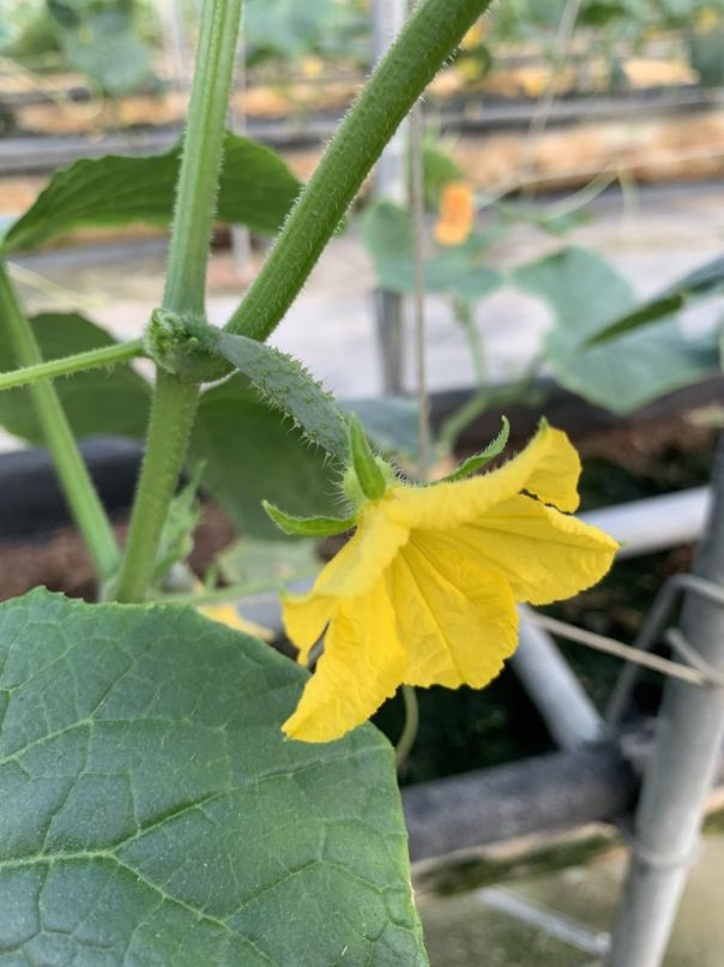flowering: (179, 314, 634, 731)
